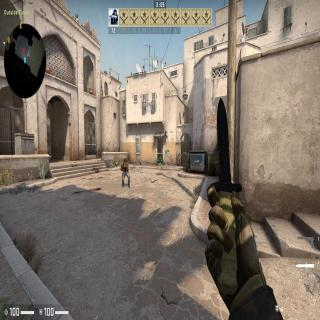T-Body: (120, 158, 131, 186)
T-Head: (124, 159, 127, 164)
